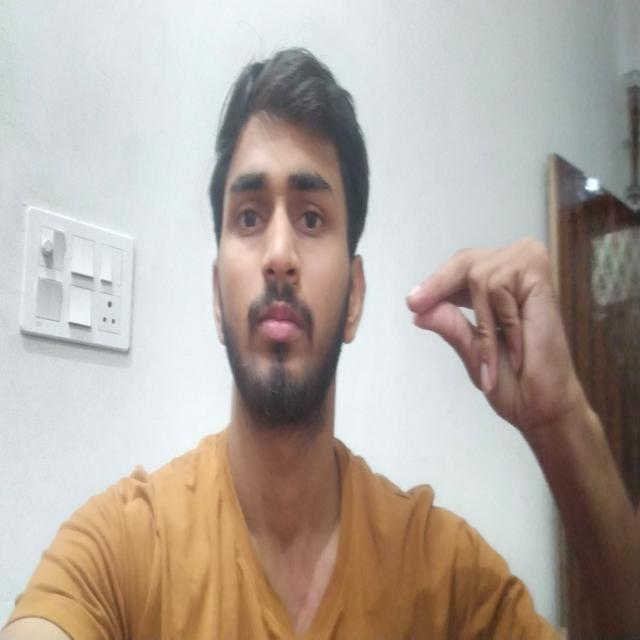No: (388, 190, 605, 453)
